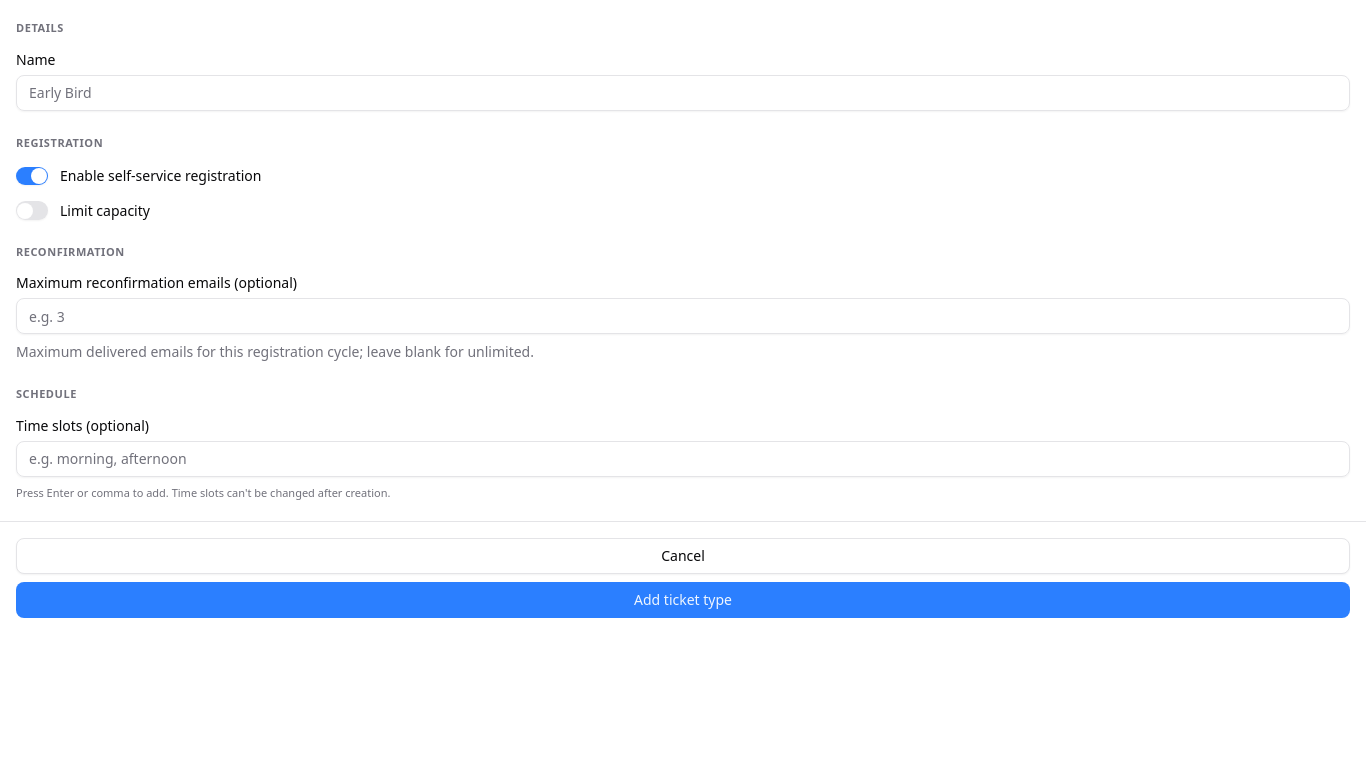
Test: AddTicketTypeForm time slots › rejects a duplicate slot
Type "morning" into the field with placeholder "e.g. morning, afternoon". click: (683, 459)
box: 16,441 -> 1350,477
Then press Enter
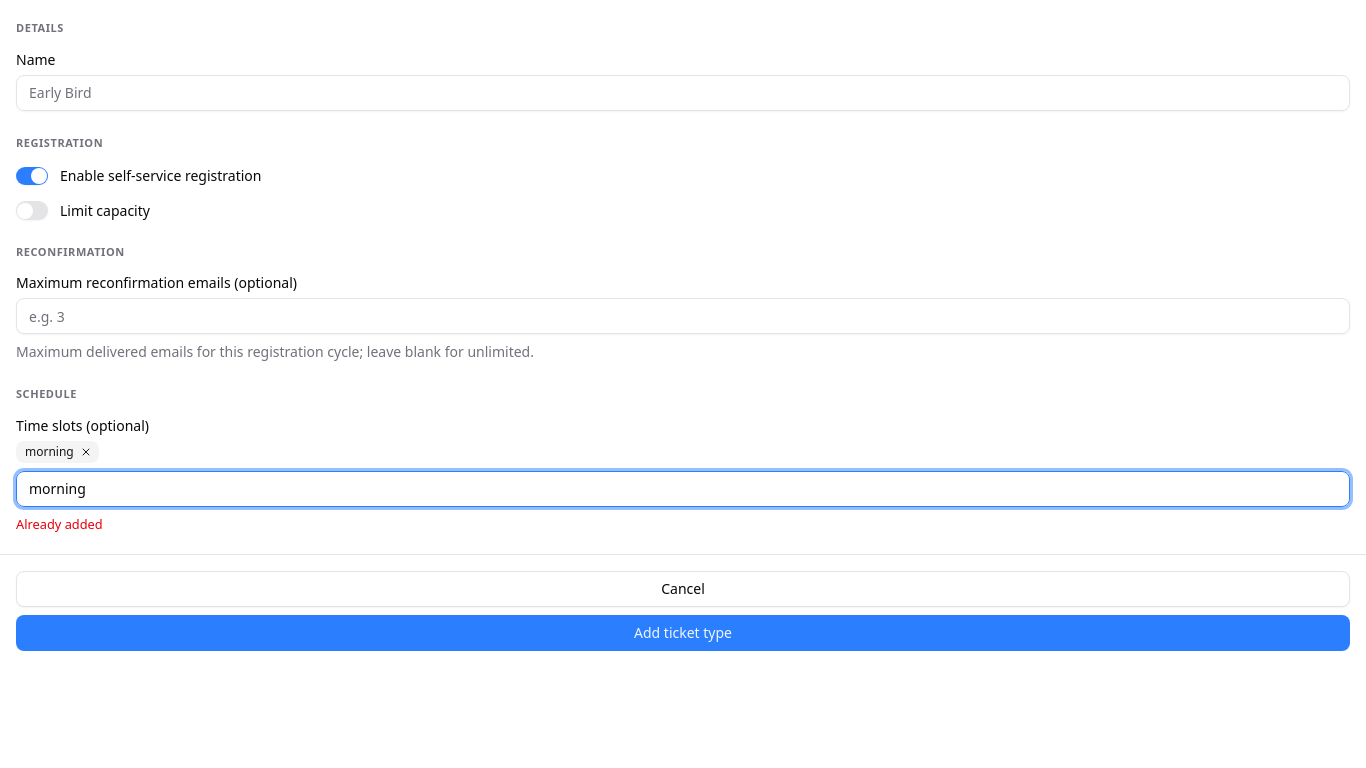
expect the text "Already added" is shown: met, box 16,515 -> 103,533
expect the text "morning" is shown once: met, box 25,444 -> 74,460
